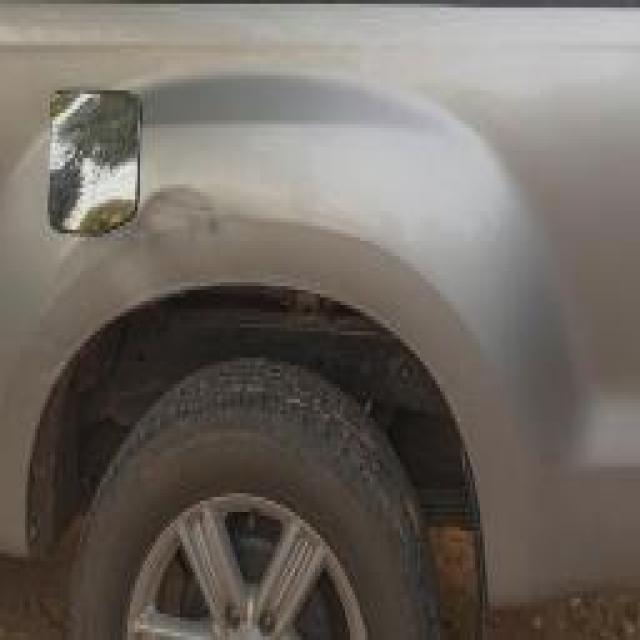Fender: (20, 94, 432, 350)
